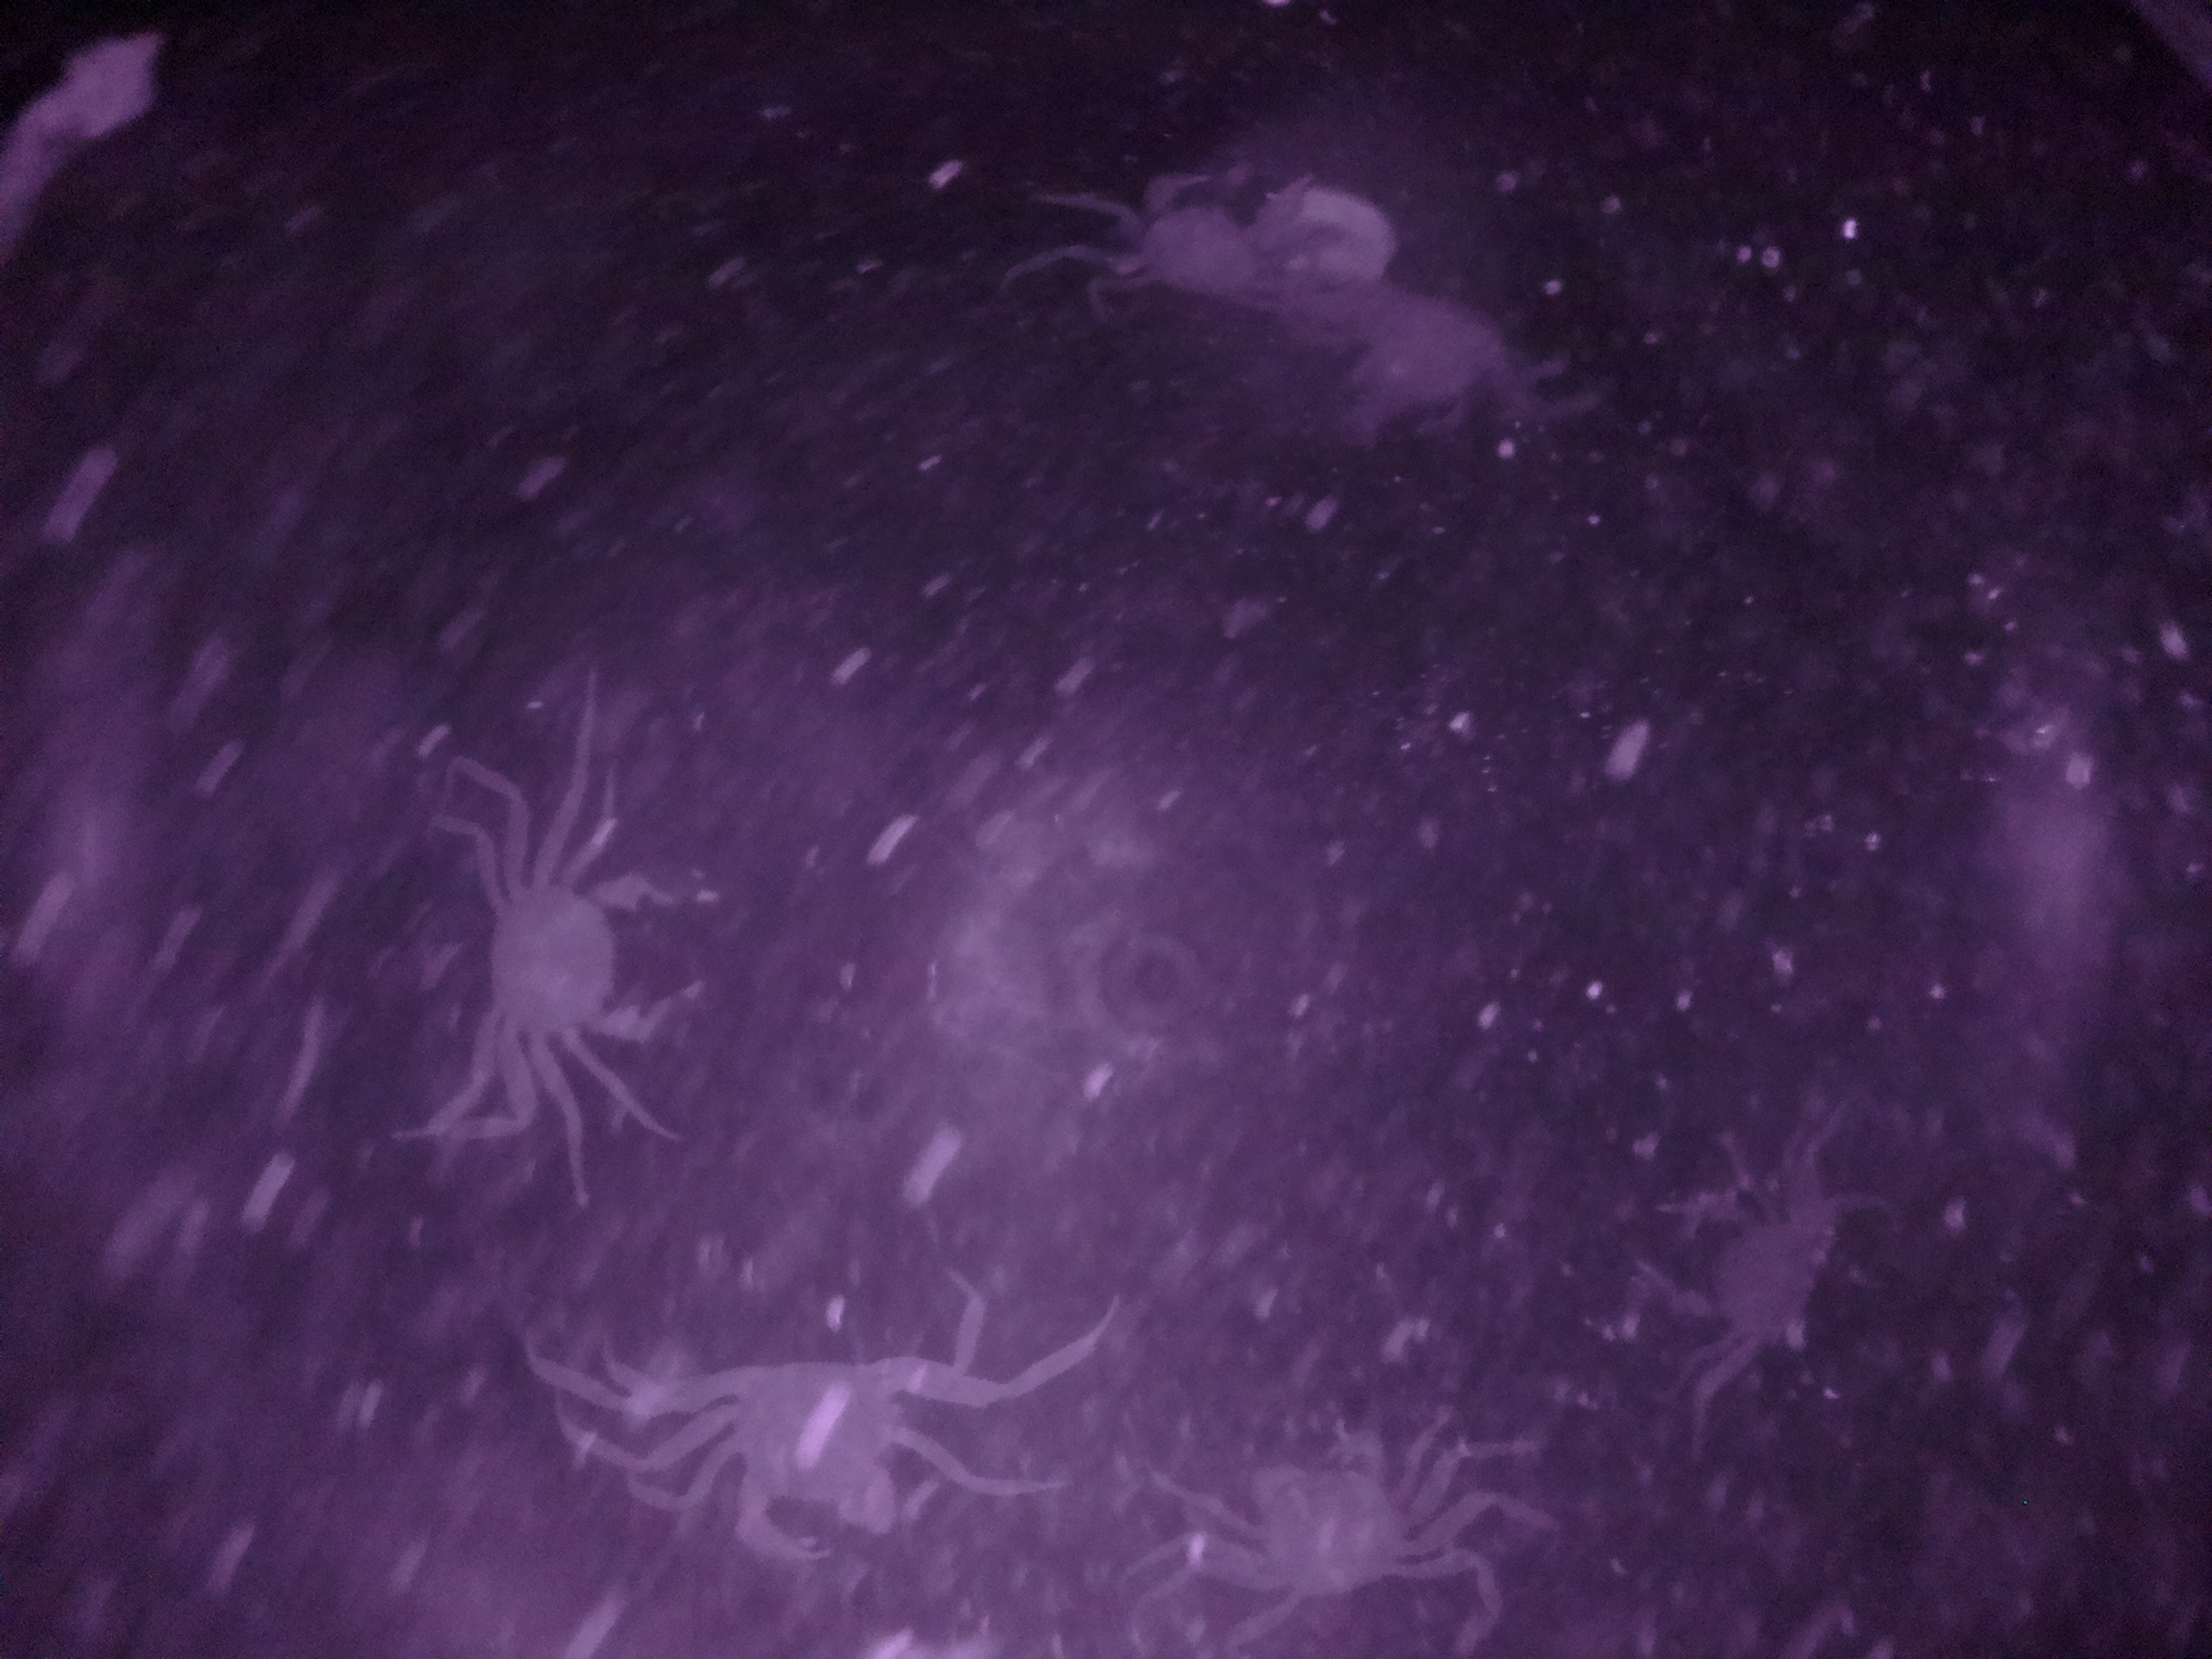Crab: (676, 1317, 967, 1607), (456, 824, 775, 1086), (1186, 1403, 1446, 1643), (1085, 132, 1327, 335)
